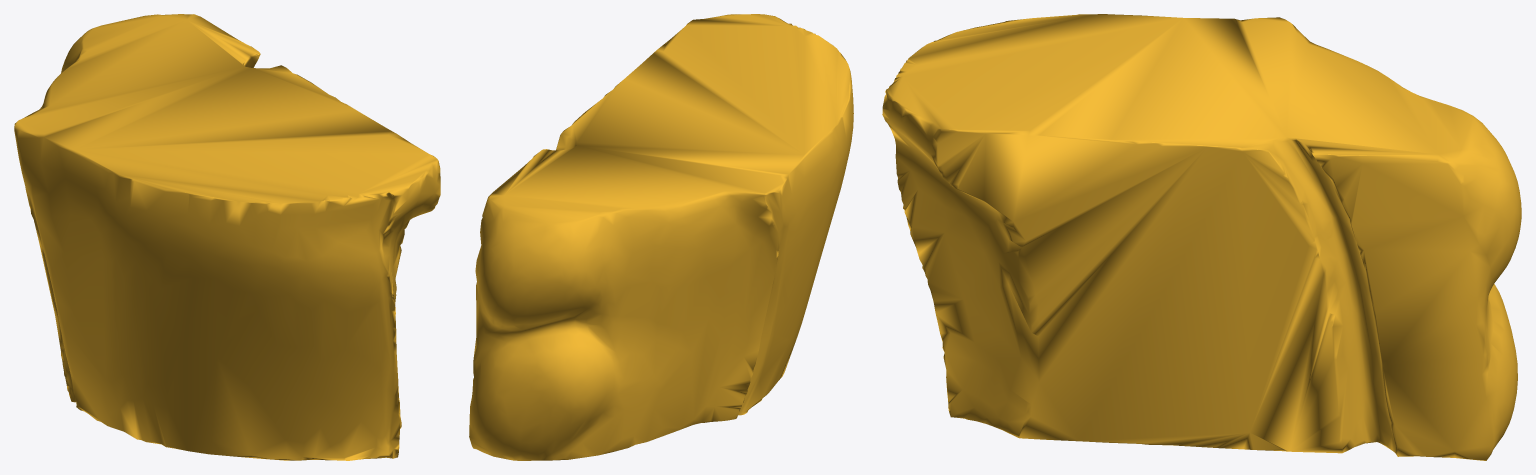
File: nervoso-midbrain-r.glb
3 views of the same model, side by side, from view 1: azimuth 30°, elevation 25°; view 2: azimuth 150°, elevation 25°; view 3: azimuth 270°, elevation 25° (orthographic). The views are drawn at different scales.
Visible parts, largest first — view 1: Midbrain.r; view 2: Midbrain.r; view 3: Midbrain.r.
Part boxes in pixels (x1,y1,x2,y2): Midbrain.r: (14, 14, 440, 460); Midbrain.r: (469, 14, 853, 460); Midbrain.r: (882, 14, 1521, 460).
Bounding box in the file's own units: 0.0143 × 0.0165 × 0.0285.
